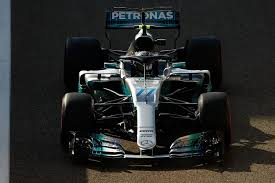f1_car: (55, 4, 239, 182)
